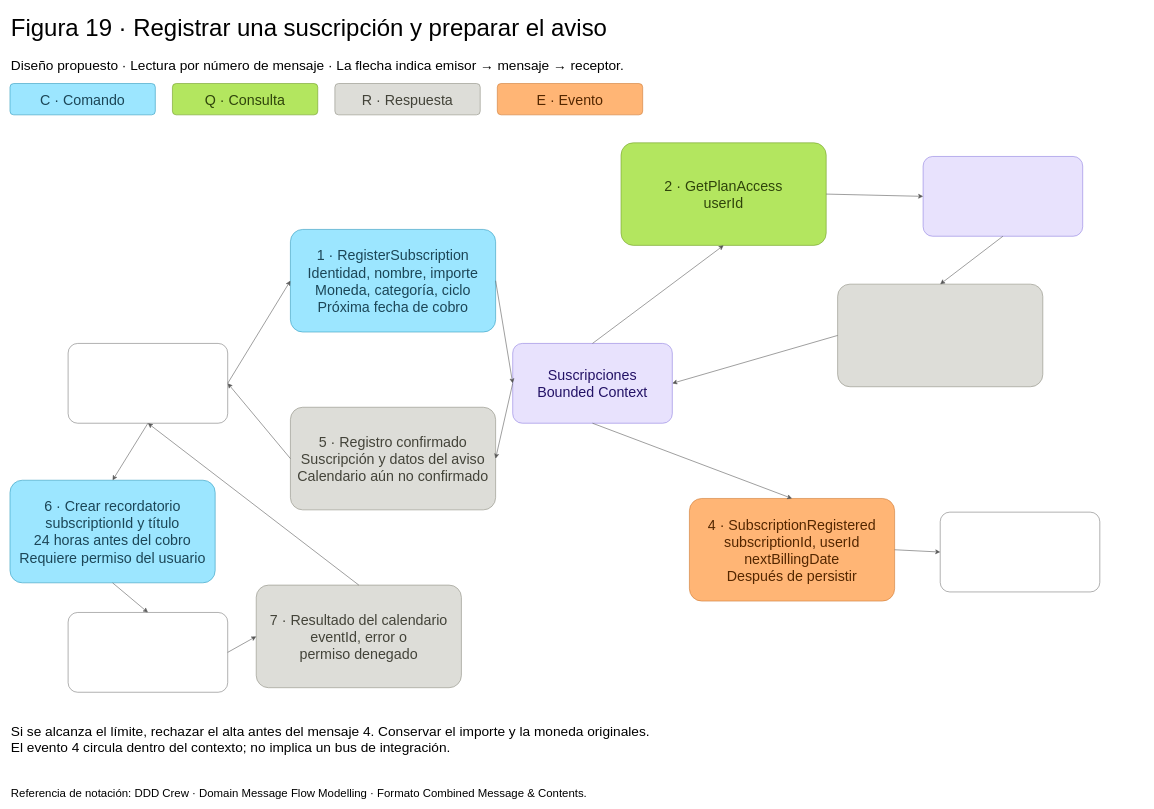
This 1154x809 diagram has some shape labels left out. The centre of each missing label's shape, as x and y in pixels:
"3 · PlanAccess Nivel, límite y vigencia Comprobar registros activos" goes at point 940,335.
"Aplicación móvil Cliente" goes at point 148,383.
"Calendario del dispositivo Sistema externo" goes at point 148,652.
"Manejadores internos de Suscripciones Mismo Bounded Context" goes at point 1020,552.
"Premium & Billing Bounded Context" goes at point 1003,196.
